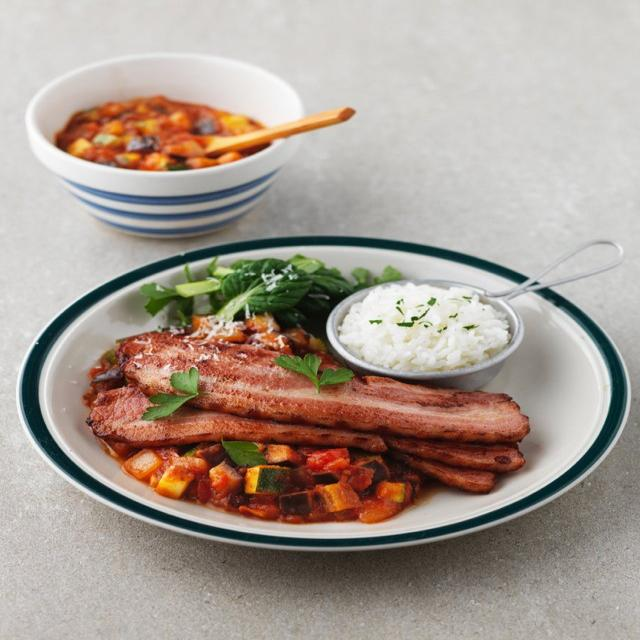bacon: (88, 330, 538, 476)
